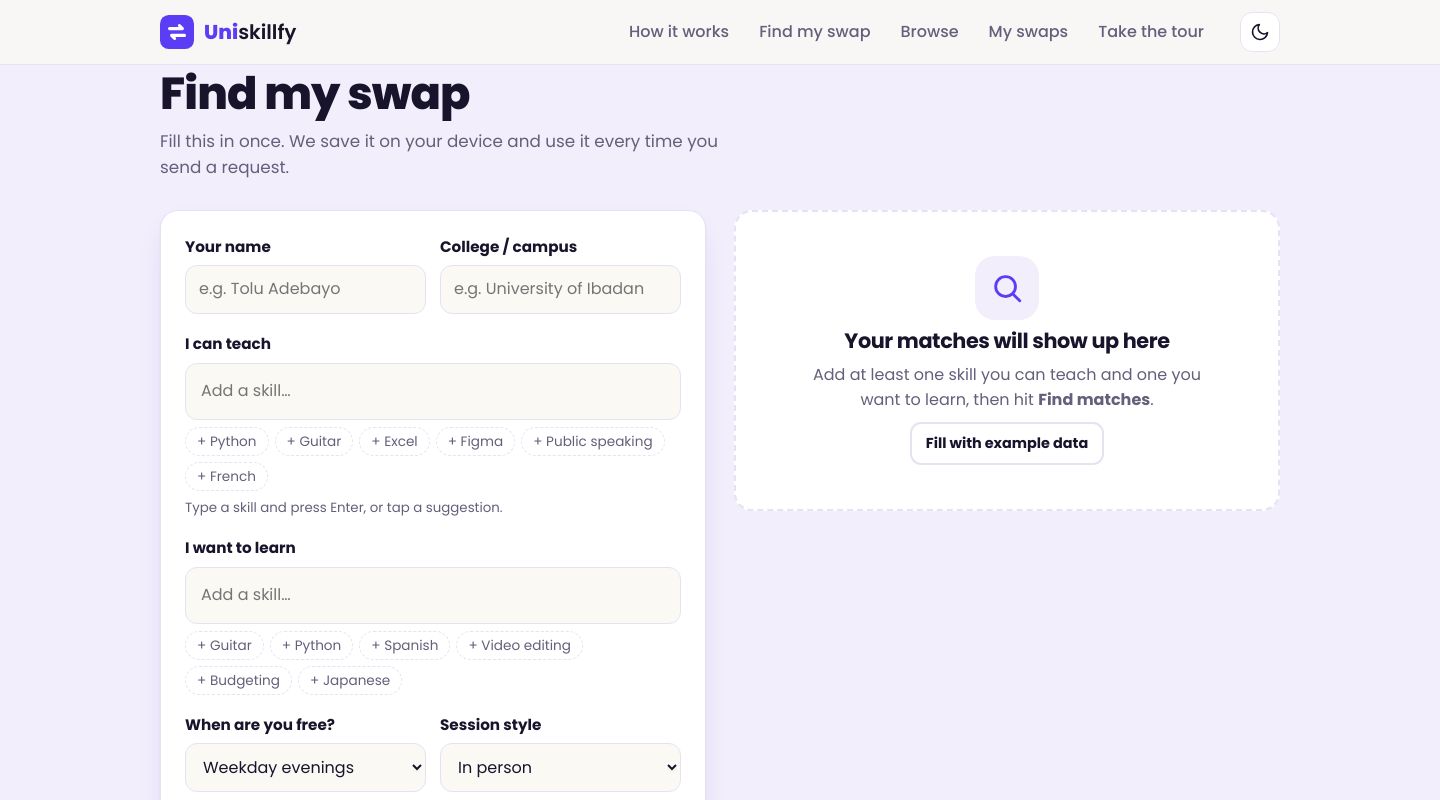
Test: app flow › resets everything
(page scrolled)
Click the button "Fill with example data": (1007,443) [910,422,1104,465]
(page scrolled)
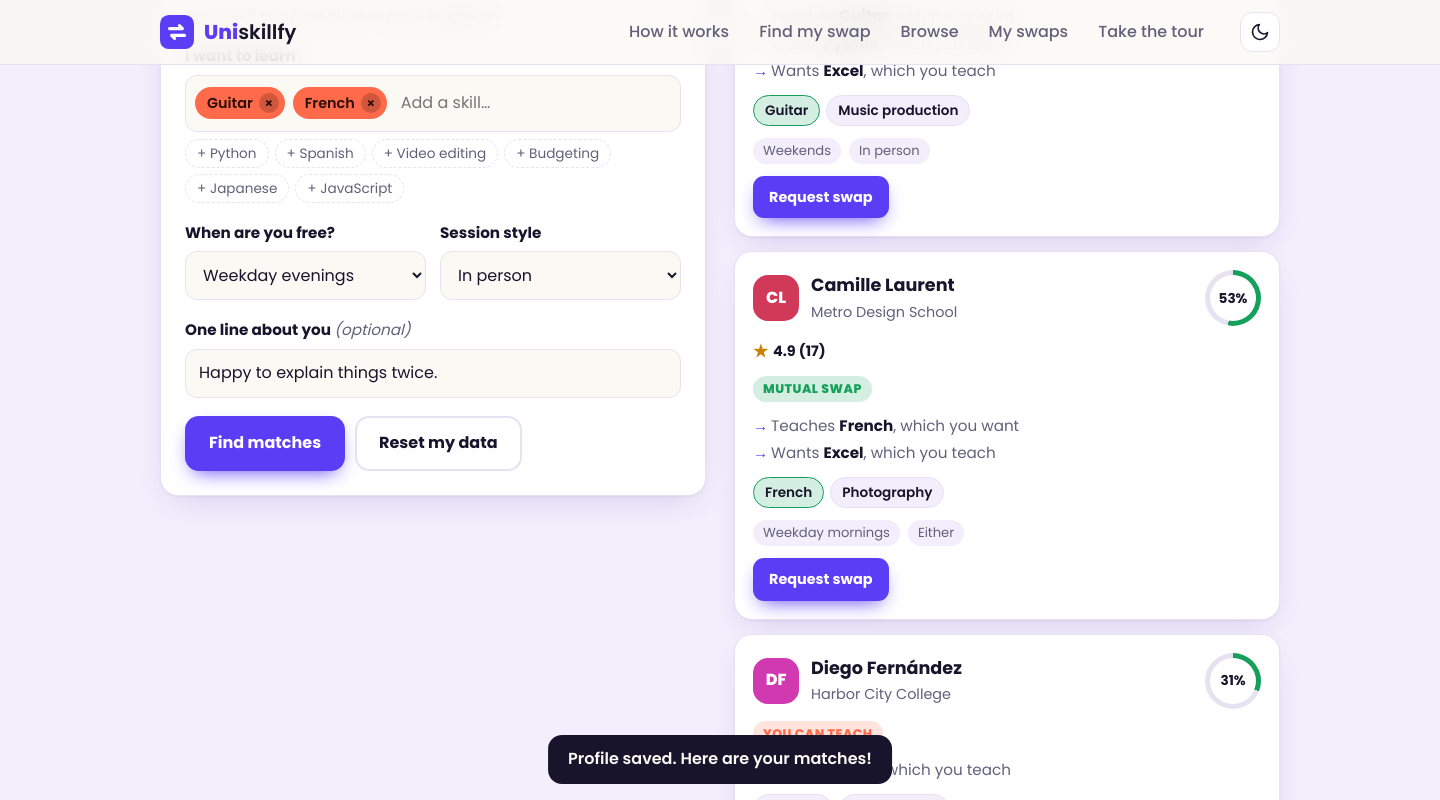
Click the button "Reset my data": (438,443) [355,416,522,471]
(page scrolled)
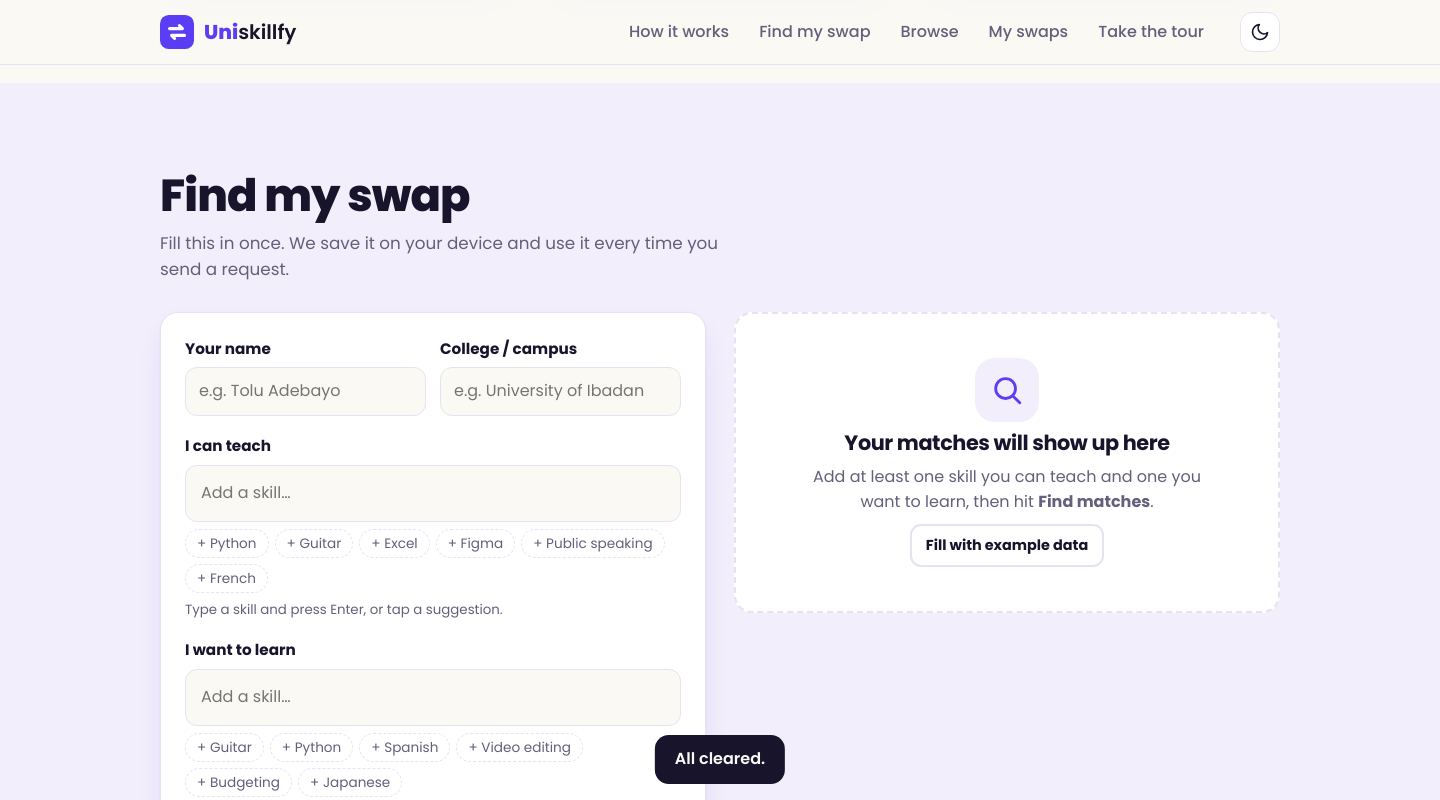
Now the heading "Your matches will show up here" is shown, box [844,432,1170,455]
